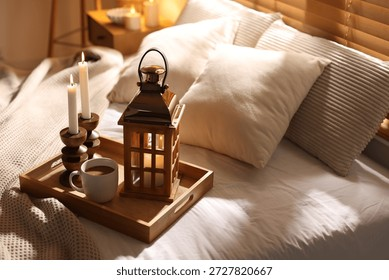Open-Flame-Hazard: (117, 44, 190, 208), (63, 45, 94, 124), (121, 4, 147, 30)
